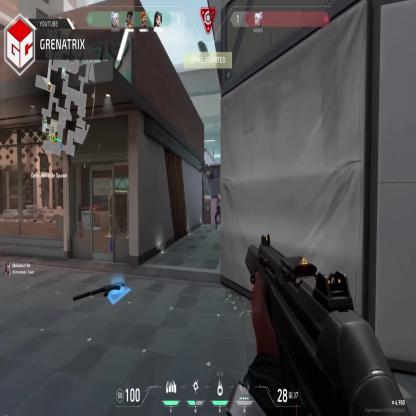enemy: (214, 194, 223, 228)
enemy_head: (218, 194, 221, 201)
